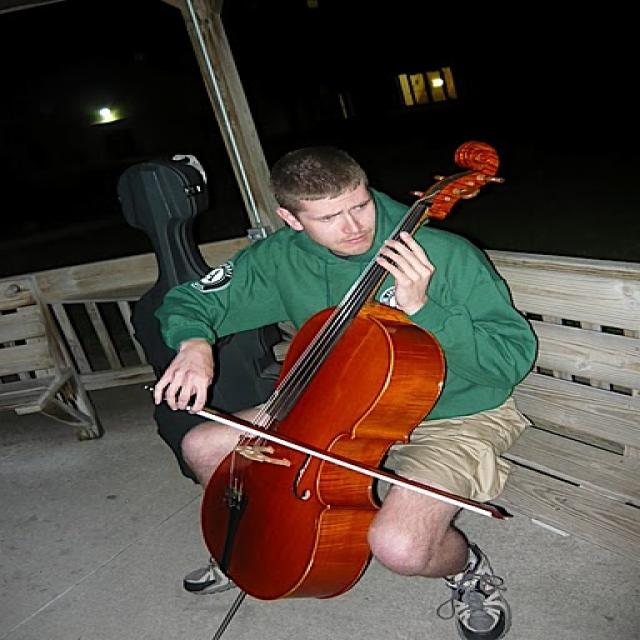cello: (198, 142, 505, 600)
